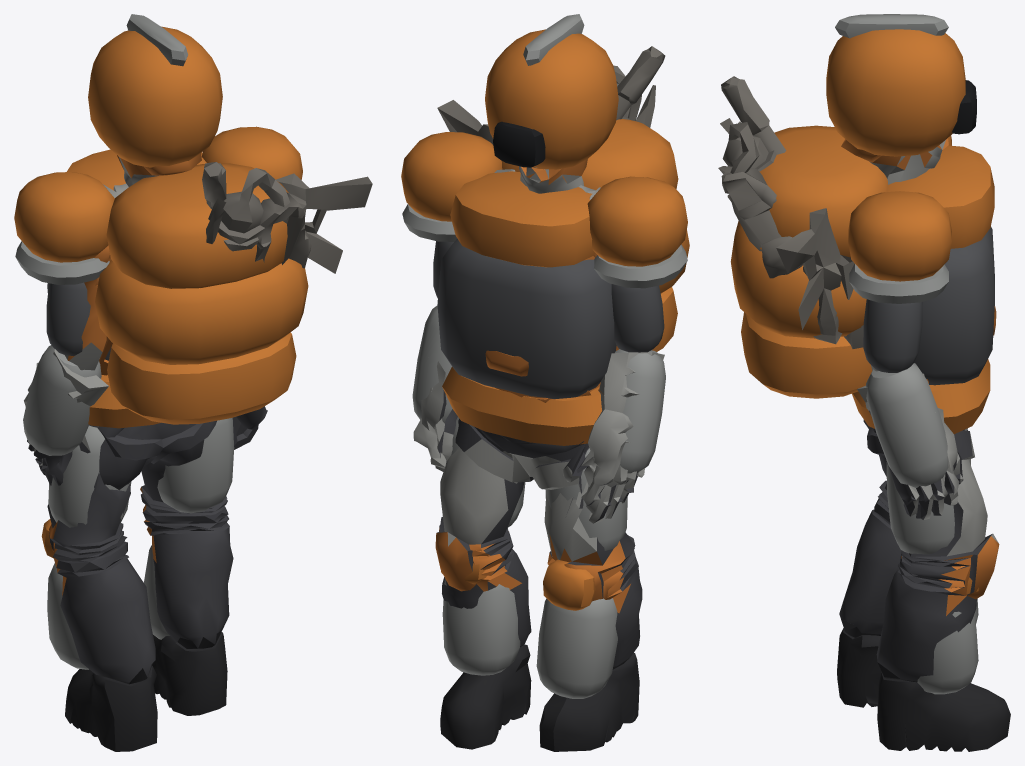
File: character-armor-3.glb
3 views of the same model, side by side, from view 1: azimuth 30°, elevation 25°; view 2: azimuth 150°, elevation 25°; view 3: azimuth 270°, elevation 25° (orthographic).
Visible parts, largest first — view 1: body; view 2: body; view 3: body.
Part boxes in pixels (bbox=[...]): body: bbox=[14, 14, 372, 751]; body: bbox=[401, 14, 689, 751]; body: bbox=[718, 14, 1010, 751].
Size of the model in its own units: 0.845 by 1.89 by 0.7179.
